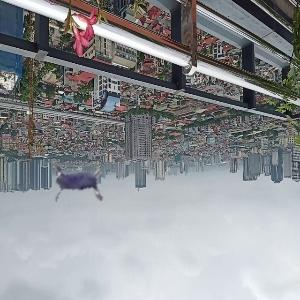drone: (28, 131, 128, 231)
